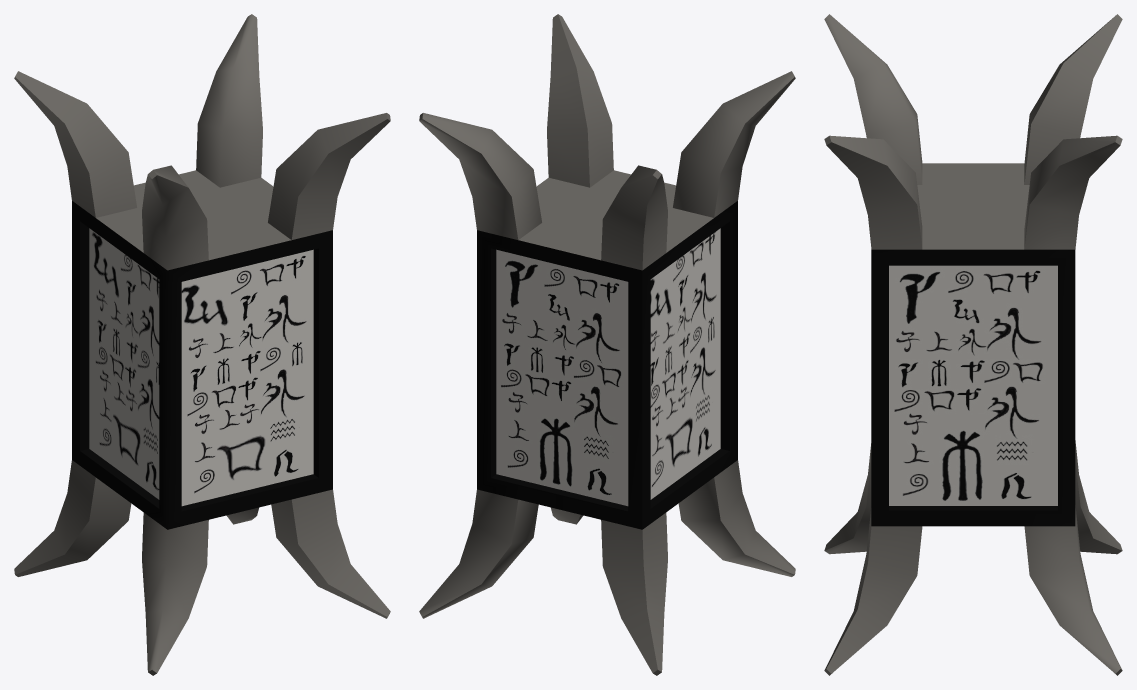
File: Artifact_01.FBX
3 renders of one model, left to right at view 1: azimuth 30°, elevation 25°; view 2: azimuth 150°, elevation 25°; view 3: azimuth 270°, elevation 25°, orthographic. The views are drawn at different scales.
Parts seen in each view (by area): view 1: Box001; view 2: Box001; view 3: Box001.
Part boxes in pixels (x1,y1,x2,y2): Box001: [14, 14, 390, 675]; Box001: [419, 14, 795, 675]; Box001: [824, 14, 1122, 675].
Size of the model in its own units: 219 by 438 by 219.
